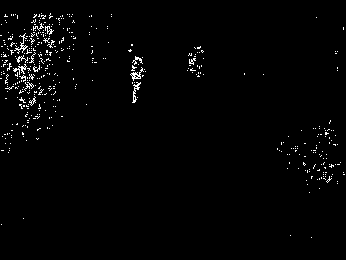person: (131, 56, 145, 104)
